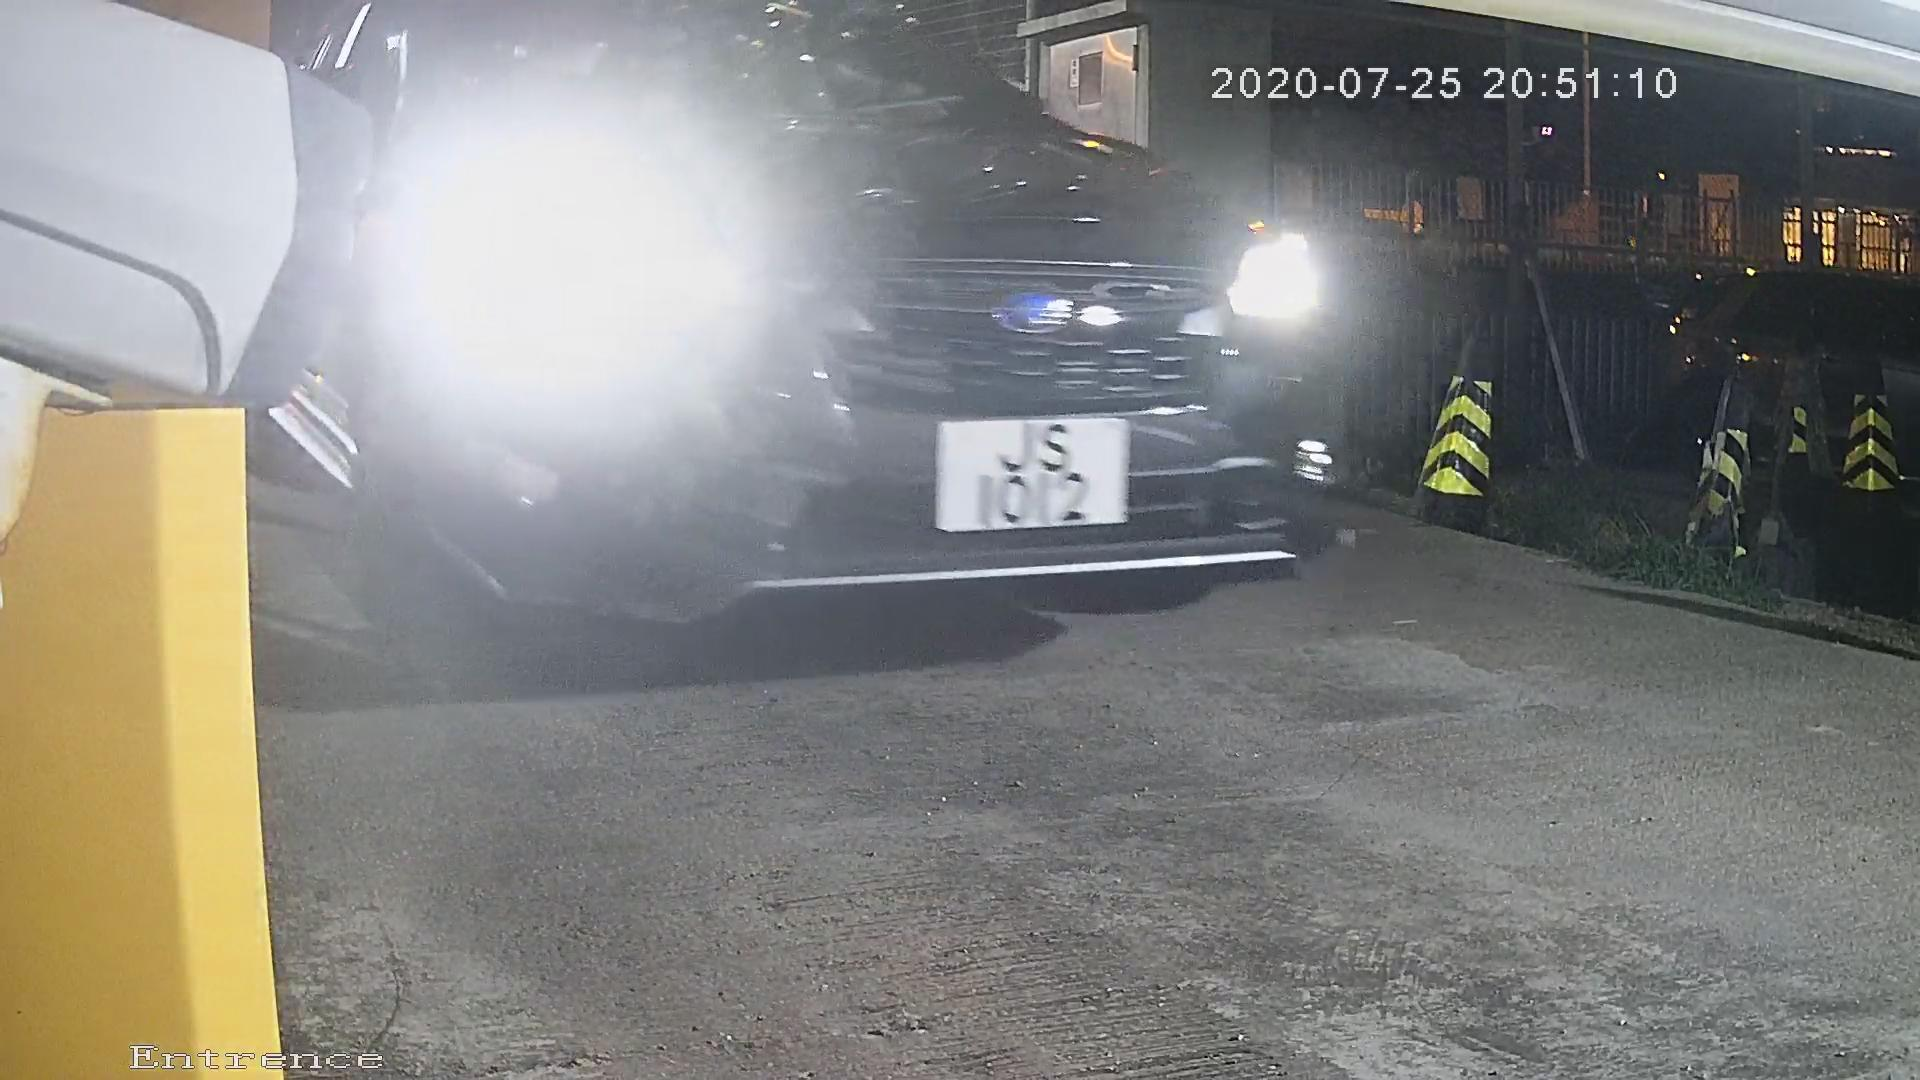privatecar: (210, 3, 1402, 678)
